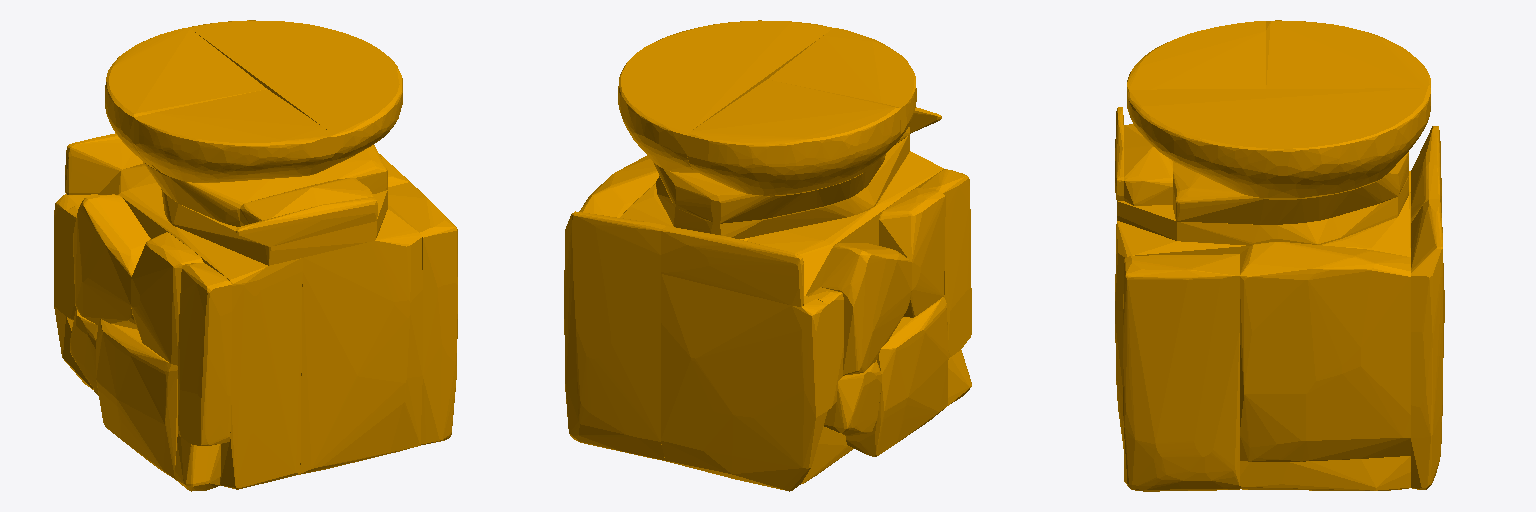
The robot description file, URDF, robot "070-a_colored_wood_blocks":
<?xml version="1.0" encoding="UTF-8"?>
<robot name="070-a_colored_wood_blocks">
	<link name="base">
		<collision>
			<geometry>
				<mesh filename="..\vhacd\070-a_colored_wood_blocks_vhacd.obj" scale="1.0 1.0 1.0"/>
			</geometry>
			<origin xyz="0 0 0"/>
			<contact_coefficients mu="0.24" />
		</collision>
		<visual>
			<geometry>
				<mesh filename="..\vhacd\070-a_colored_wood_blocks_vhacd.obj" scale="1.0 1.0 1.0"/>
			</geometry>
			<origin xyz="0 0 0"/>
		</visual>
		<inertial>
			<mass value="0"/>
			<inertia ixx="0.0" ixy="-0.0" ixz="0.0" iyy="0.0" iyz="0.0" izz="0.0" />
			<origin xyz="0.021190156285815998 0.008545373363188384 0.07390911071675015"/>
		</inertial>
	</link>
</robot>

--- Render facts (derived) ---
Views: 3 orthographic renders of the robot side by side, from view 1: azimuth 30°, elevation 25°; view 2: azimuth 150°, elevation 25°; view 3: azimuth 270°, elevation 25°.
Model 070-a_colored_wood_blocks with 1 links and 0 joints (none), rooted at base, posed all joints at 0.
Links seen in each view (by area): view 1: base; view 2: base; view 3: base.
Link boxes in pixels (<box>): base: <box>54,20,457,491</box>; base: <box>564,20,971,491</box>; base: <box>1115,20,1444,491</box>.
Size in the robot's own frame: 0.1426 by 0.1419 by 0.166 metres.
Meshes: 1 distinct files referenced, 1 mesh visuals loaded (1 OBJ).